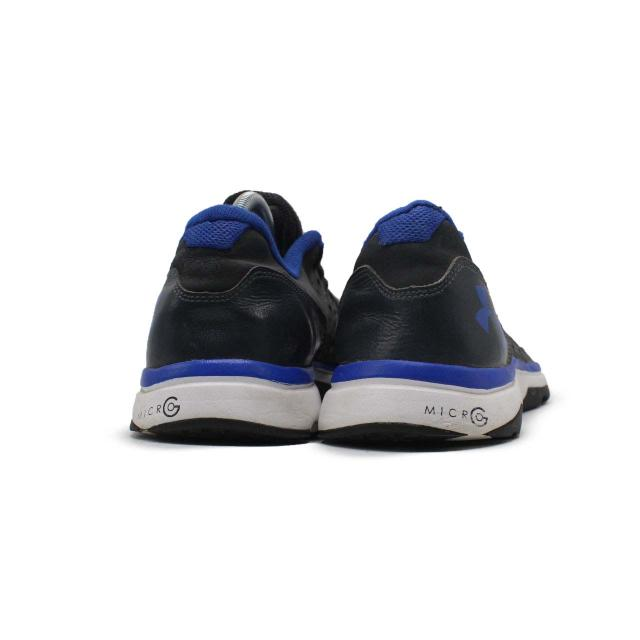heel: (148, 204, 316, 365), (324, 212, 500, 365)
midsole: (320, 363, 532, 452), (128, 358, 322, 437)
